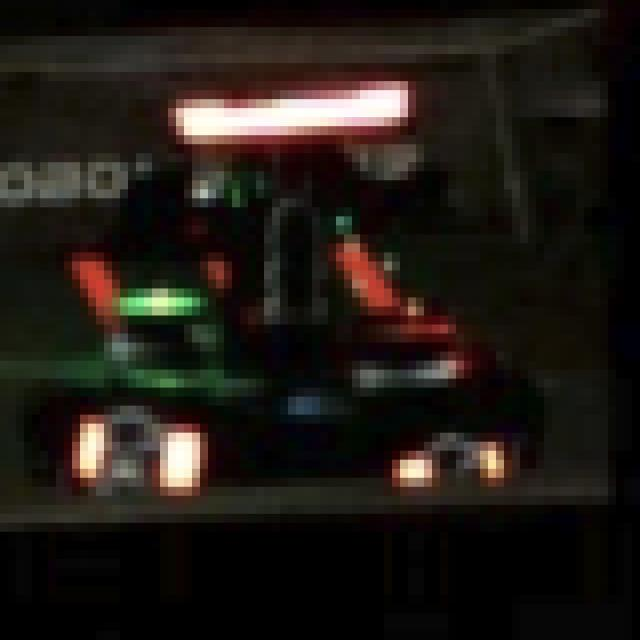Rs: (72, 406, 200, 504)
